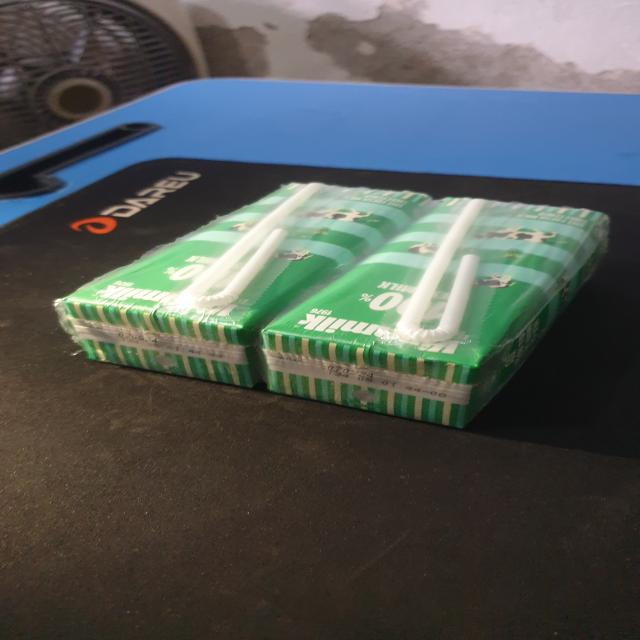Vina: (46, 180, 430, 390), (263, 199, 605, 430)
